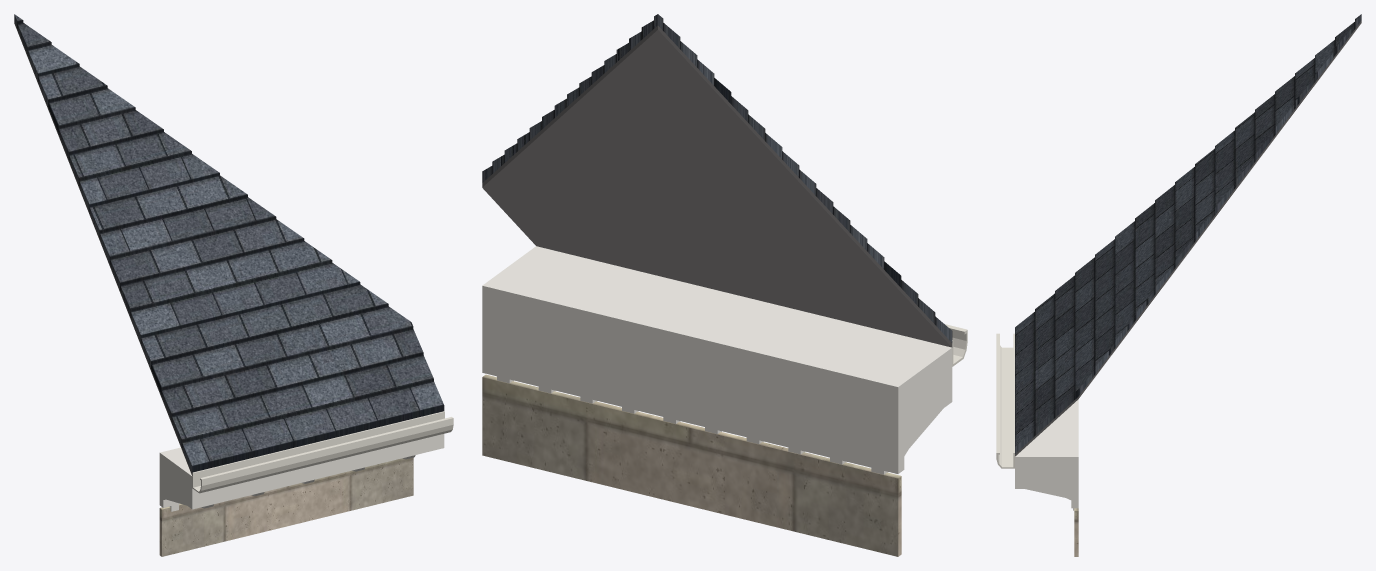
File: roof_r1.glb
3 renders of one model, left to right at view 1: azimuth 30°, elevation 25°; view 2: azimuth 150°, elevation 25°; view 3: azimuth 270°, elevation 25°, orthographic. The views are drawn at different scales.
Visible parts, largest first — view 1: roof_r1_shingles, roof_r1_stone_t, roof_r1_gutter, roof_r1_trim, roof_r1_dark; view 2: roof_r1_dark, roof_r1_trim, roof_r1_stone_t, roof_r1_shingles; view 3: roof_r1_shingles, roof_r1_trim, roof_r1_gutter, roof_r1_dark.
Boxes of the visible parts, box(x1,y1,x2,y2) form: roof_r1_shingles: box(14, 14, 444, 472); roof_r1_stone_t: box(159, 457, 413, 556); roof_r1_gutter: box(192, 411, 453, 493); roof_r1_trim: box(159, 434, 444, 511); roof_r1_dark: box(14, 21, 192, 475); roof_r1_dark: box(482, 25, 952, 347); roof_r1_trim: box(482, 246, 952, 474); roof_r1_stone_t: box(482, 374, 901, 556); roof_r1_shingles: box(482, 14, 952, 342); roof_r1_shingles: box(1015, 14, 1361, 453); roof_r1_trim: box(1015, 399, 1078, 510); roof_r1_gutter: box(996, 333, 1014, 468); roof_r1_dark: box(1015, 21, 1361, 456).
Bounding box in the file's own units: 2 × 3.3 × 2.58.
Materials: 5 (2 with a texture image).
